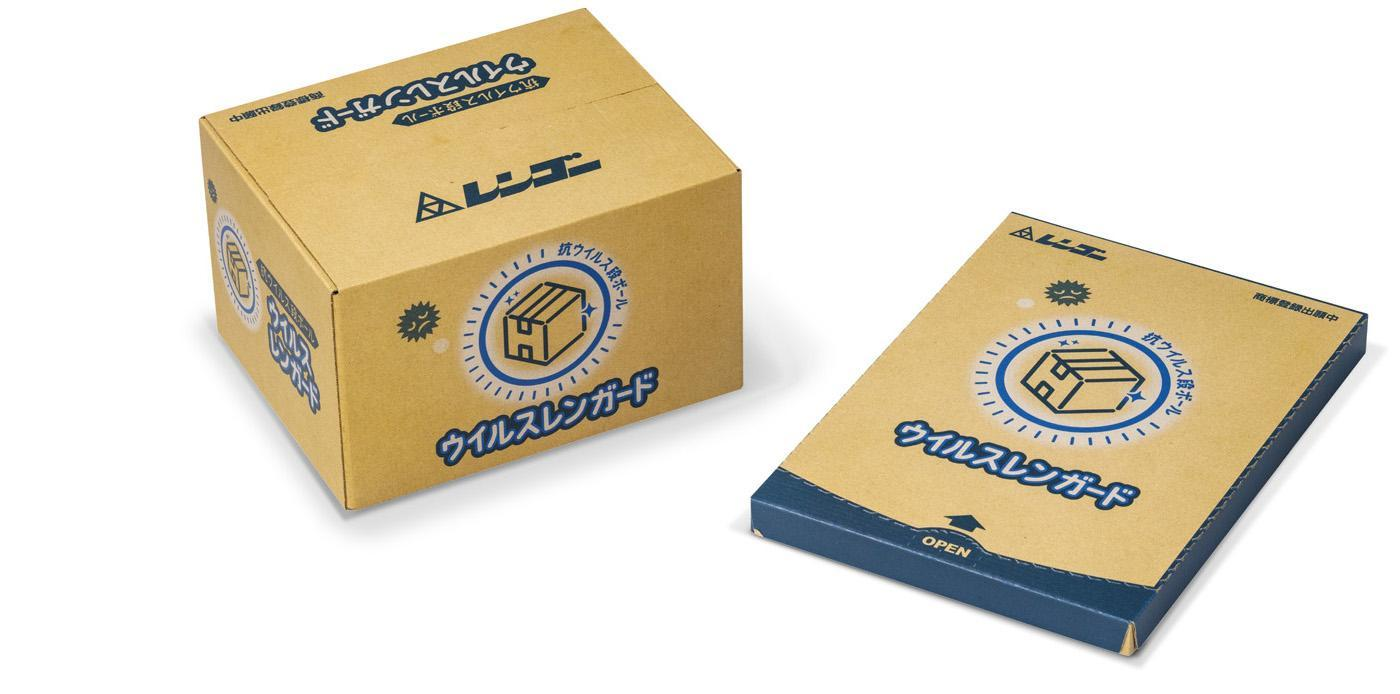box: (756, 164, 1378, 663), (182, 17, 743, 518)
